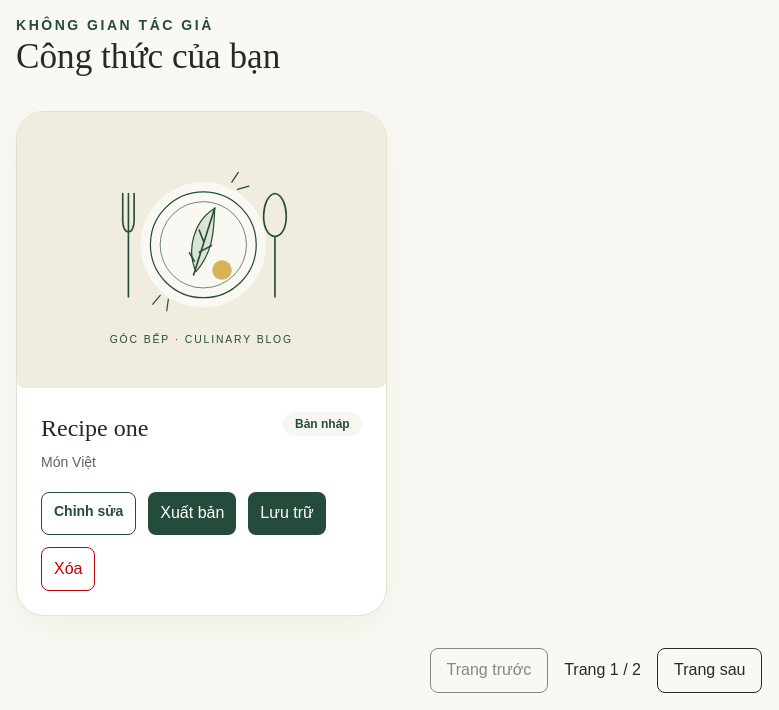
Test: dashboard paginates through mine results and disables first/last controls
The width and height of the screenshot is (779, 710).
Click the button "Trang sau". click: [710, 670]
box: [657,648,762,693]
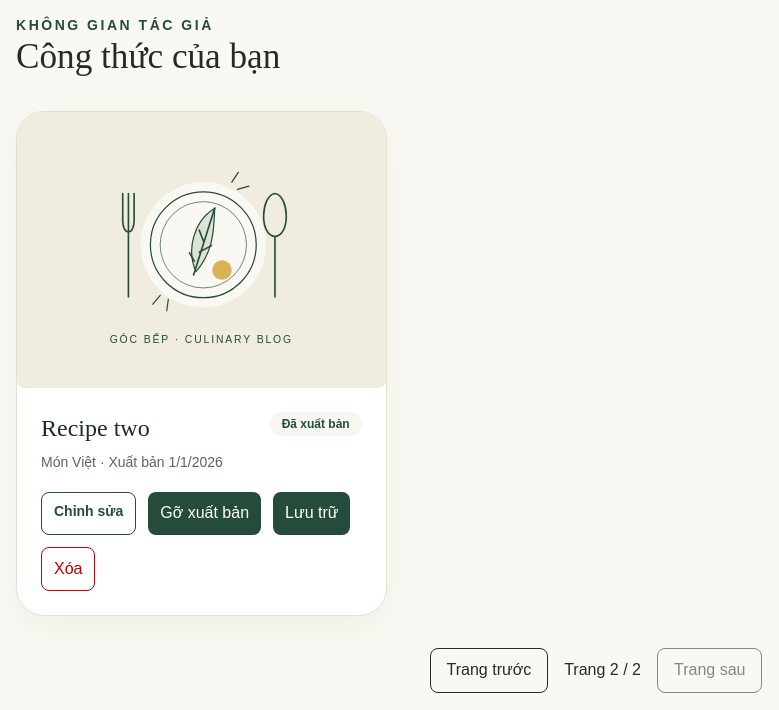
Result: the text "Recipe two" is shown at [41,412,150,444]
Click the button "Trang trước". click: [489, 670]
box: [430,648,548,693]
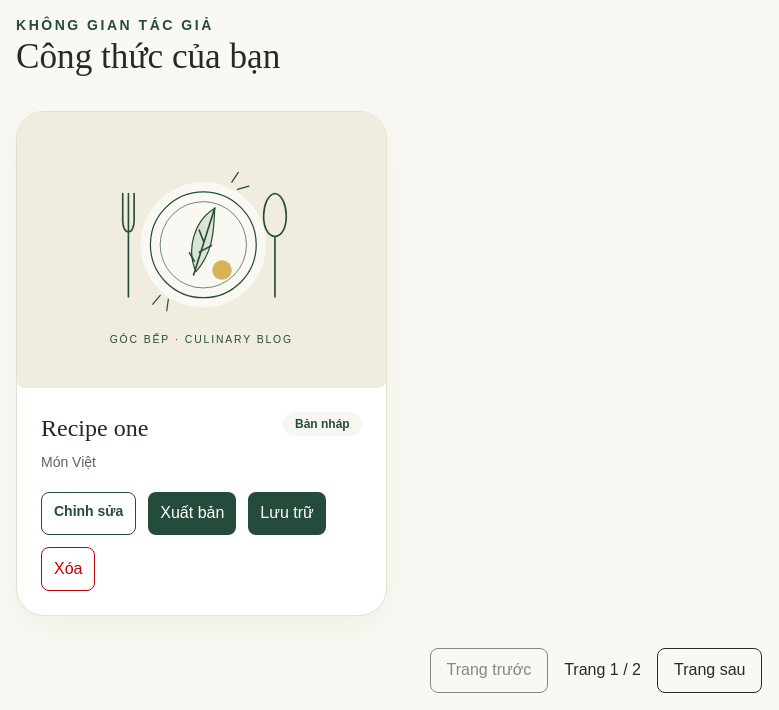
Result: the text "Recipe one" is shown at [41,412,148,444]
